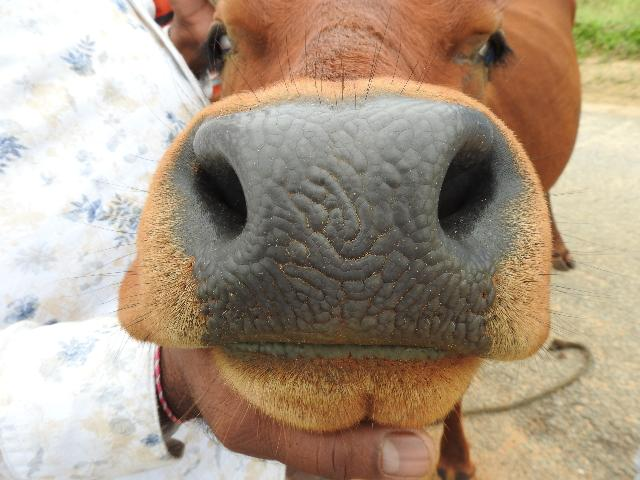Muzzle: (208, 112, 470, 340)
